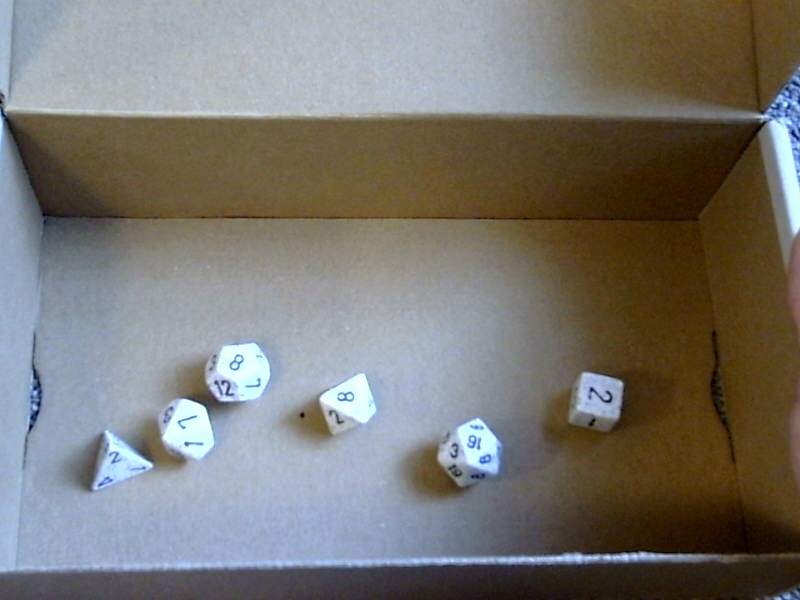d10 7: (155, 396, 216, 467)
d12 8: (201, 335, 274, 404)
d20 16: (430, 413, 512, 492)
d4 2: (79, 426, 153, 498)
d6 2: (562, 364, 628, 438)
d8 8: (308, 368, 384, 447)
